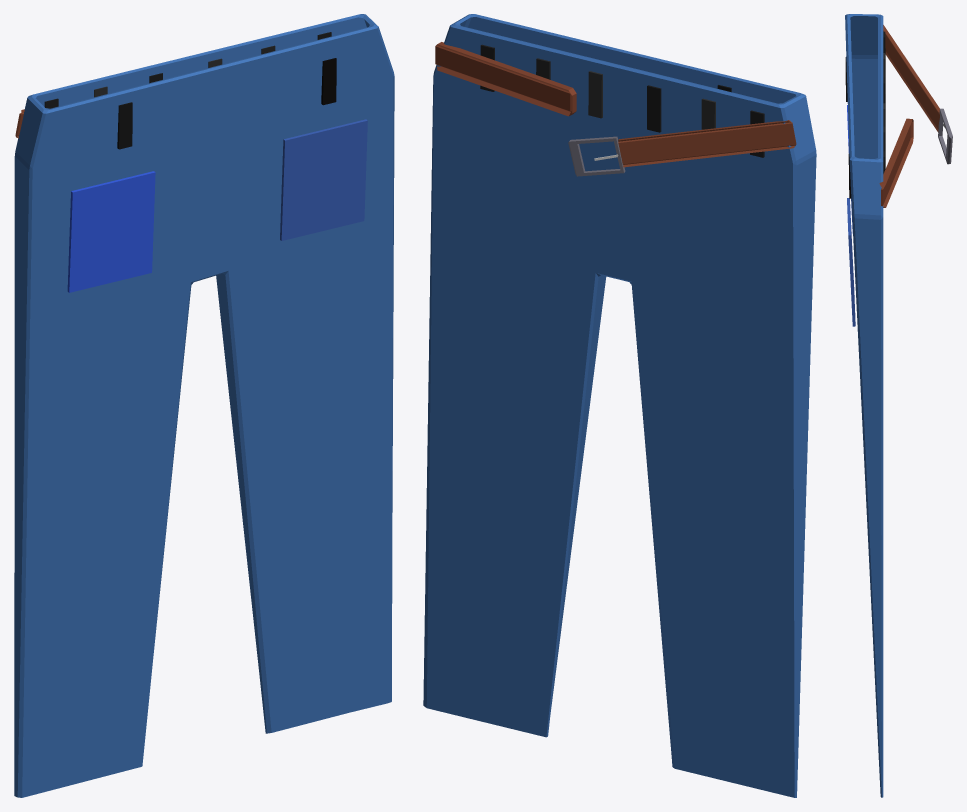
File: jeans.fbx
3 views of the same model, side by side, from view 1: azimuth 30°, elevation 25°; view 2: azimuth 150°, elevation 25°; view 3: azimuth 270°, elevation 25° (orthographic). The views are drawn at different scales.
Visible parts, largest first — view 1: Cube.001, Plane.011, Plane.012, Plane.006, Plane.007; view 2: Cube.001, Plane.008, Plane.010, Cube.002; view 3: Cube.001, Plane.008, Plane.010, Plane.012, Cube.002.
Part boxes in pixels (left/top/right/bottom): Cube.001: left=14, top=14, right=394, bottom=797; Plane.011: left=67, top=171, right=155, bottom=292; Plane.012: left=280, top=119, right=367, bottom=240; Plane.006: left=321, top=58, right=336, bottom=105; Plane.007: left=117, top=102, right=132, bottom=149; Cube.001: left=423, top=14, right=816, bottom=797; Plane.008: left=618, top=120, right=796, bottom=167; Plane.010: left=435, top=42, right=576, bottom=116; Cube.002: left=568, top=136, right=625, bottom=176; Cube.001: left=845, top=14, right=883, bottom=797; Plane.008: left=883, top=25, right=939, bottom=132; Plane.010: left=879, top=118, right=913, bottom=207; Plane.012: left=847, top=198, right=855, bottom=326; Cube.002: left=938, top=108, right=952, bottom=164.
Bounding box in the file's own units: 276 × 485 × 75.6.
